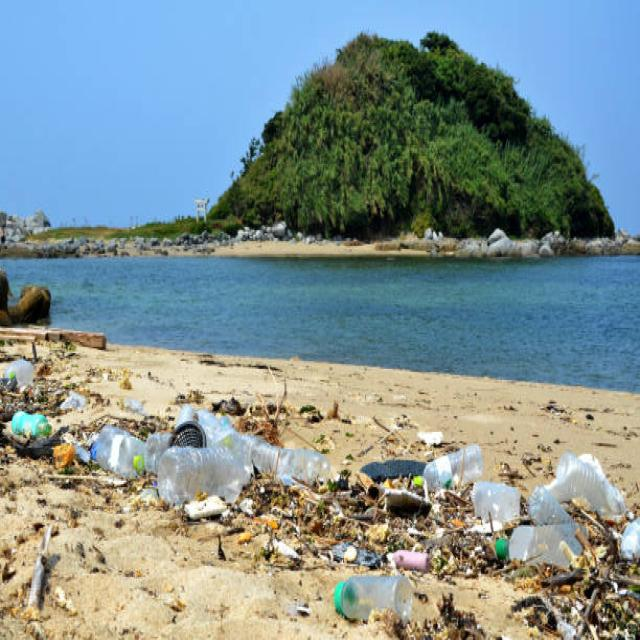plastic: (157, 419, 326, 522), (508, 465, 611, 571), (322, 558, 431, 604), (418, 446, 478, 484)
trash: (32, 385, 144, 517)
